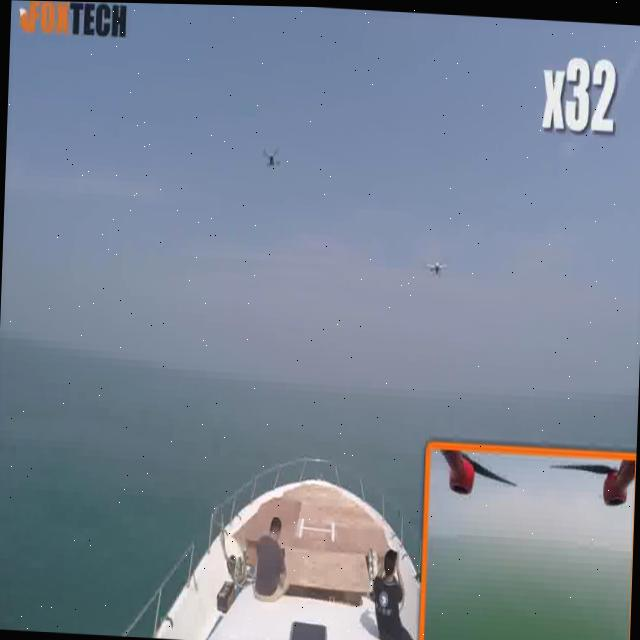drone: (257, 134, 287, 178), (424, 244, 446, 287)
